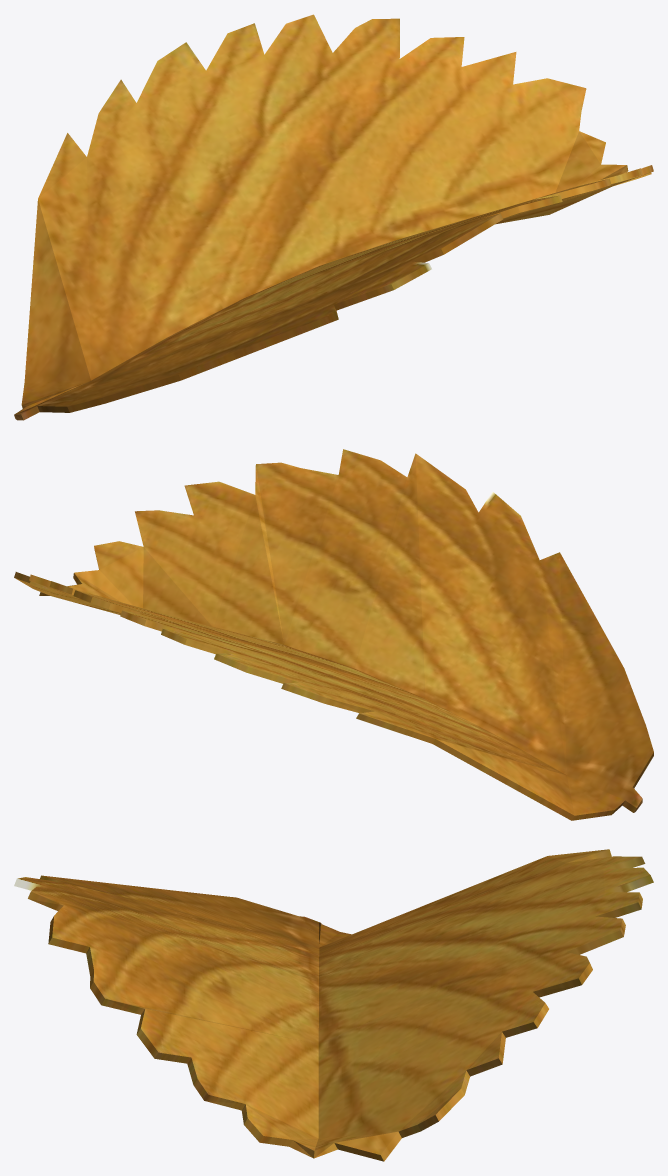
Rendered from leaf1_collision.dae.
3 renders of one model, top to bottom at view 1: azimuth 30°, elevation 25°; view 2: azimuth 150°, elevation 25°; view 3: azimuth 270°, elevation 25°, orthographic. The views are drawn at different scales.
Visible parts, largest first — view 1: Plane; view 2: Plane; view 3: Plane.
Part boxes in pixels (left/top/right/bottom): Plane: left=14, top=14, right=653, bottom=420; Plane: left=14, top=449, right=653, bottom=820; Plane: left=14, top=849, right=653, bottom=1161.
Bounding box in the file's own units: 0.1327 × 0.101 × 0.0426.
Materials: 1 (1 with a texture image).
